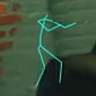hacks_2: (35, 14, 77, 85)
